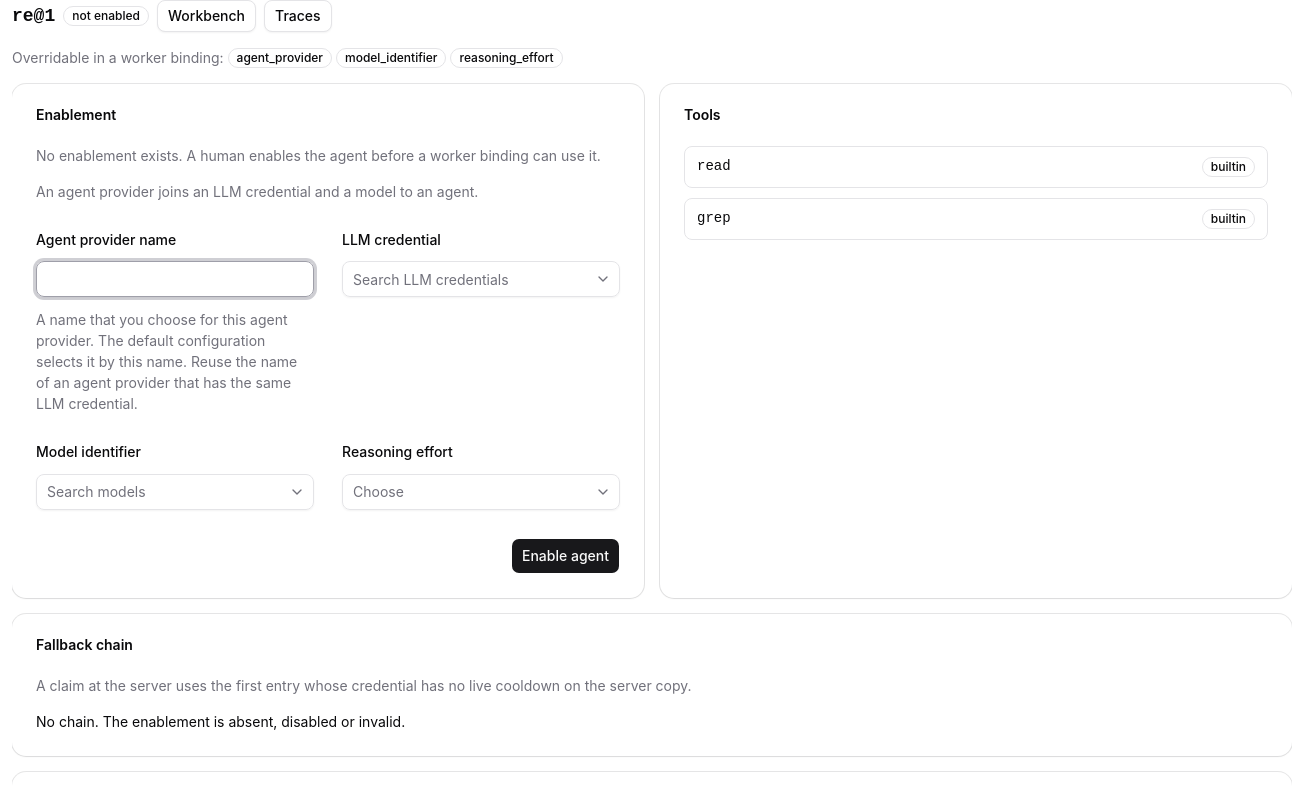
Scenario: AgentScreen › stays on the agent when the enablement create with a return path fails
The width and height of the screenshot is (1292, 794).
In the field labelled "Agent provider name": [175, 279] box [36,261,314,297], type "router"
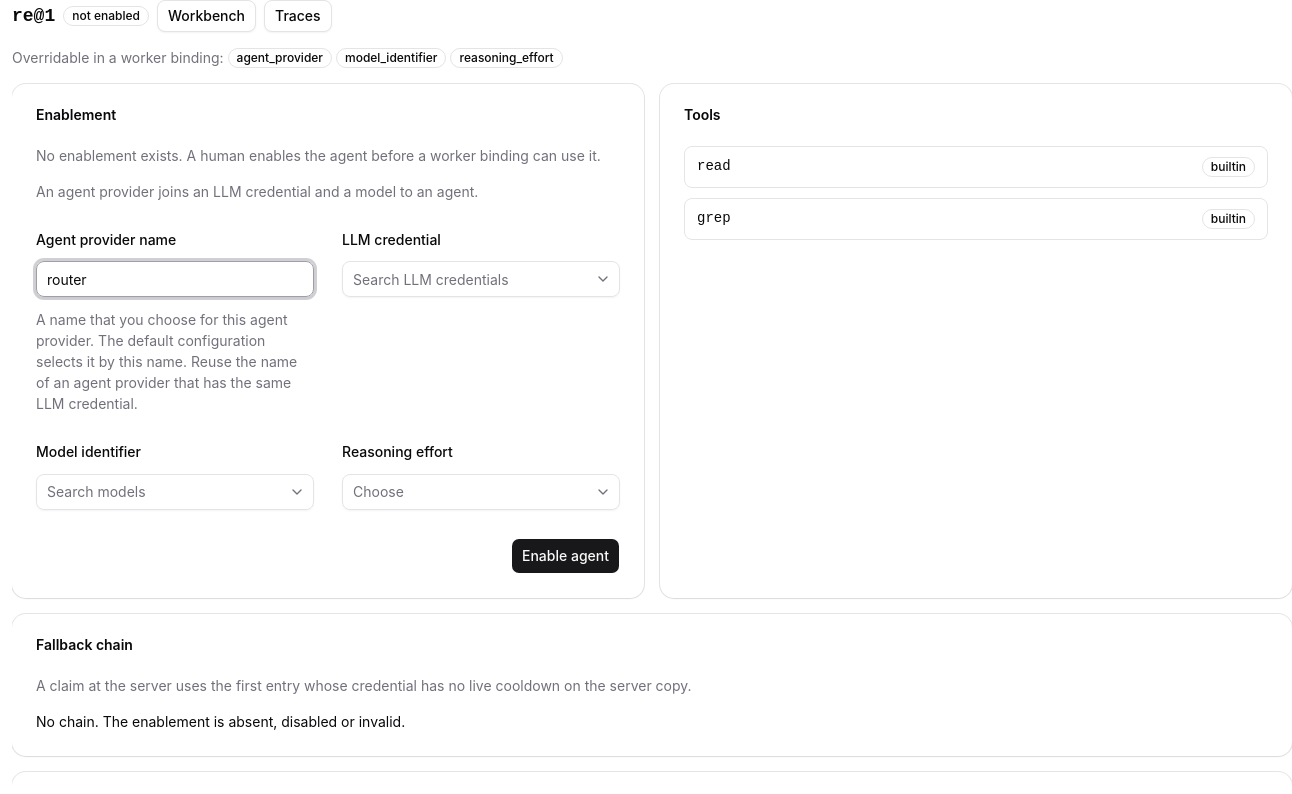
Click the dropdown labelled "LLM credential": [467, 279] box [343,261,591,297]
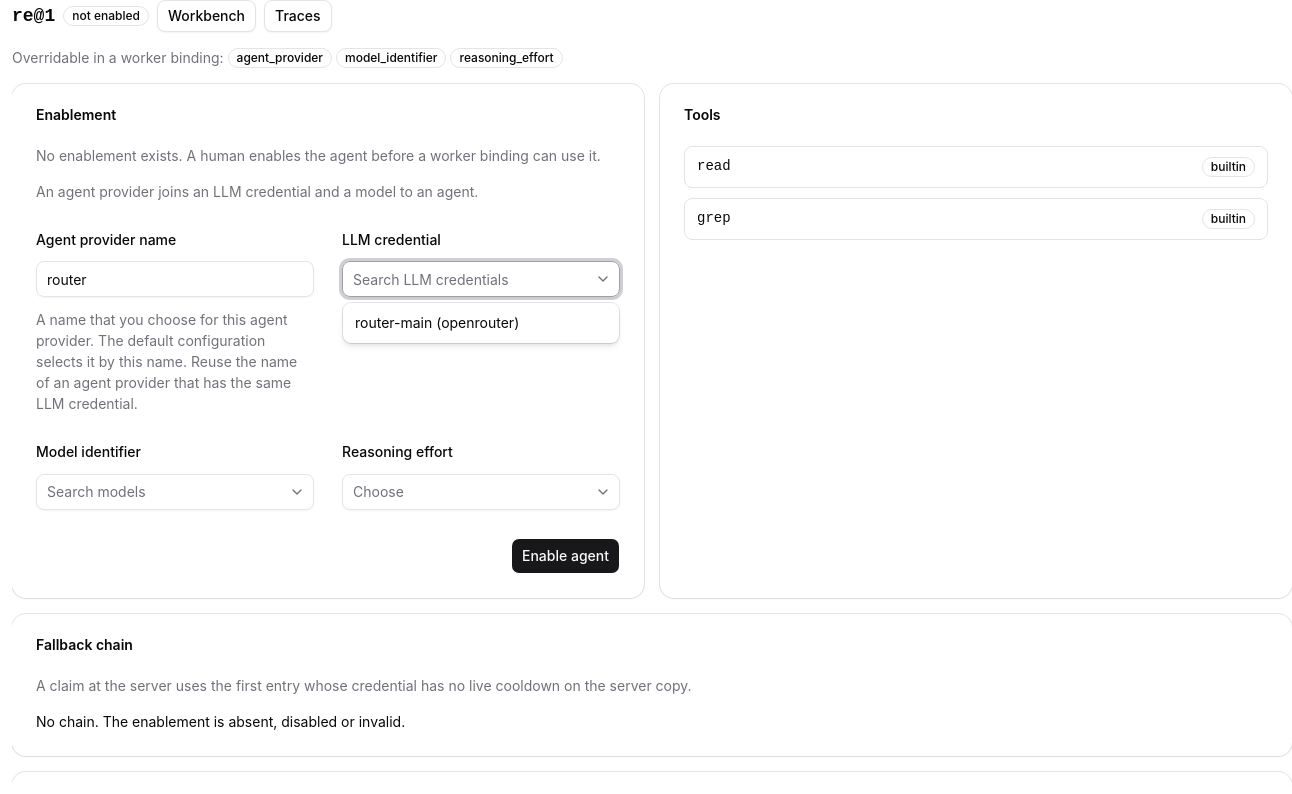
Click the option "router-main (openrouter)": [437, 322] box [355,314,519,331]
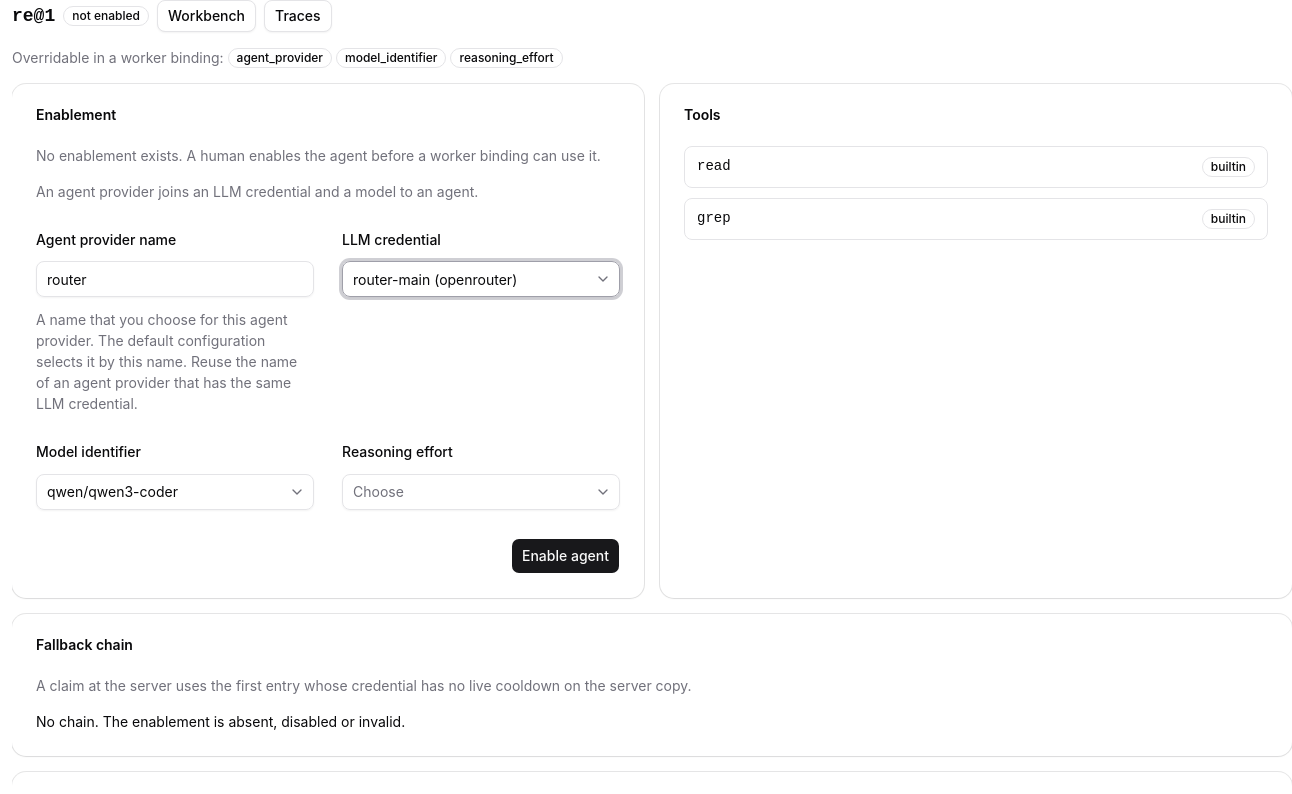
Expected: the dropdown labelled "Model identifier" holds "qwen/qwen3-coder", [37,474,285,510]
Click the dropdown named "Reasoning effort": [378, 491] box [342,474,620,510]
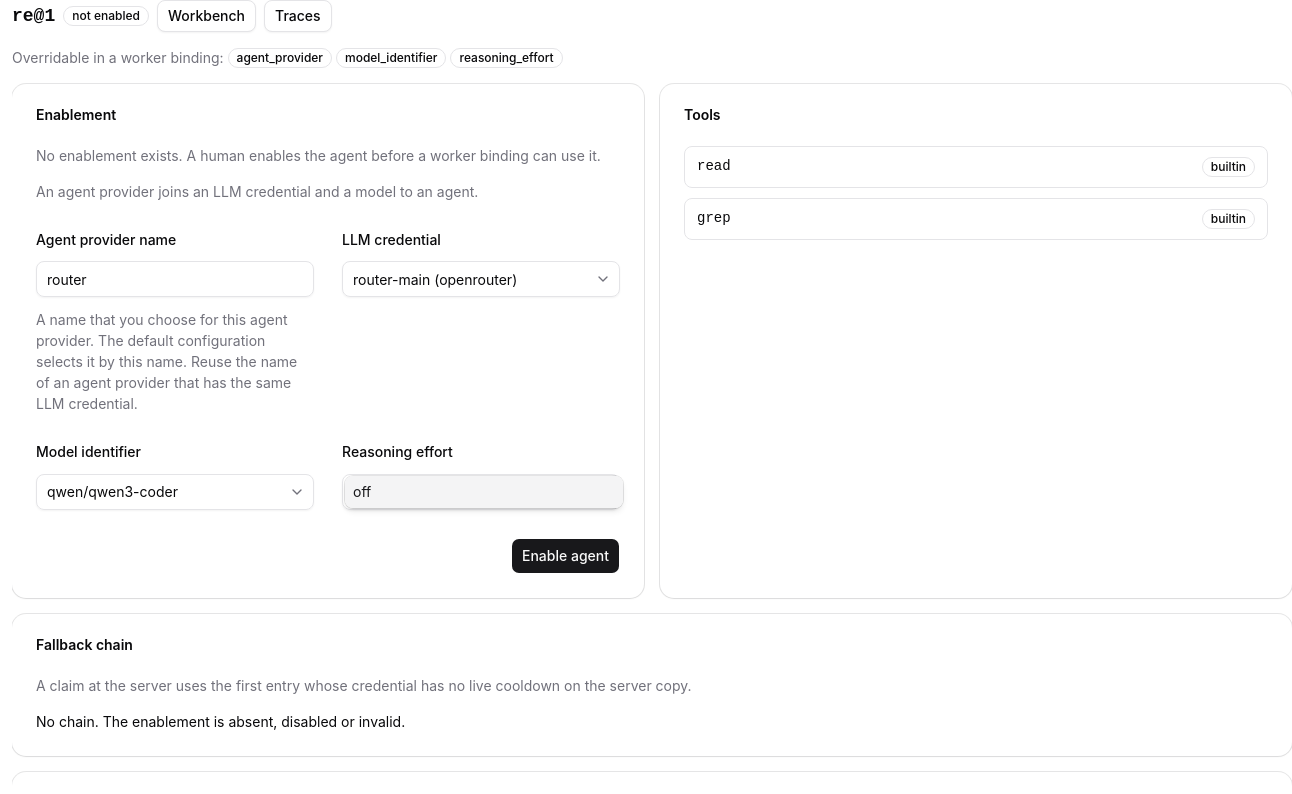
Click the option "off": [362, 491] box [345,476,623,508]
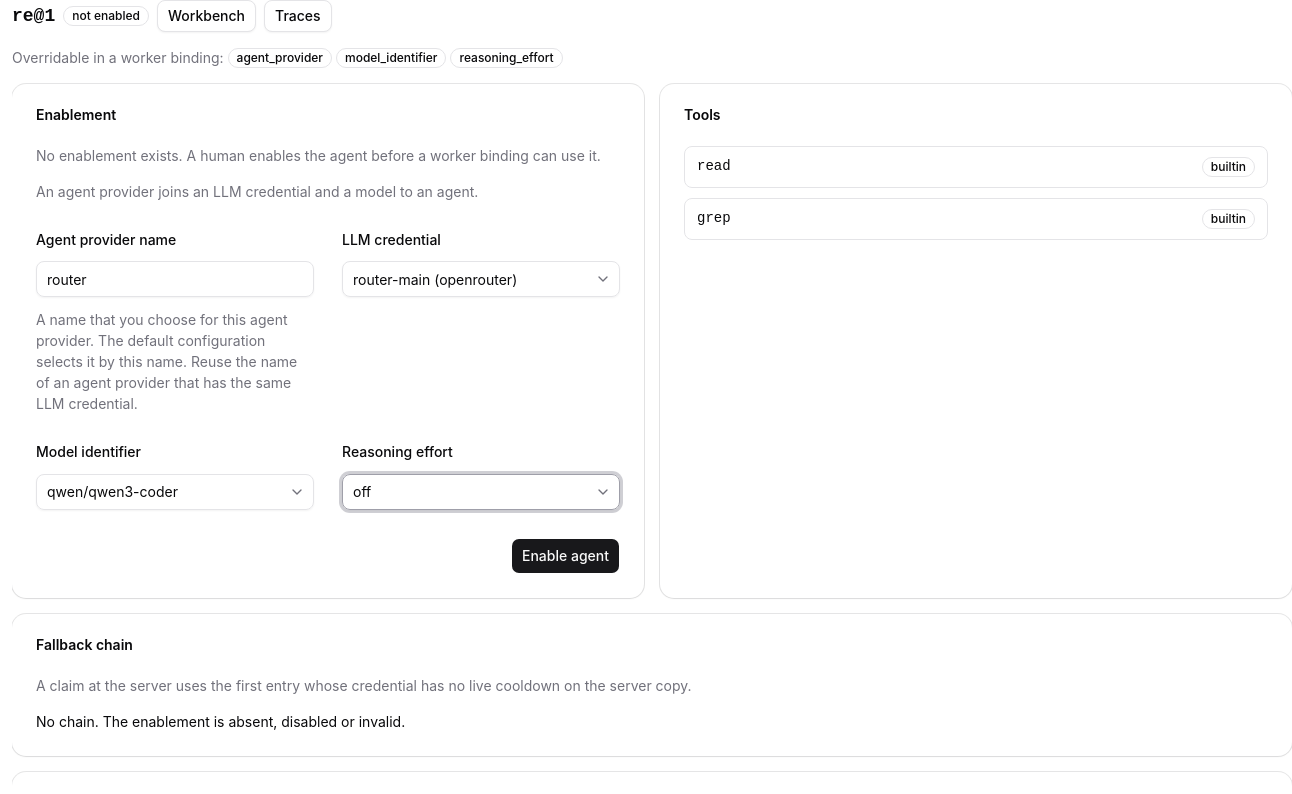
Click the button "Enable agent": [566, 556] box [511,538,620,574]
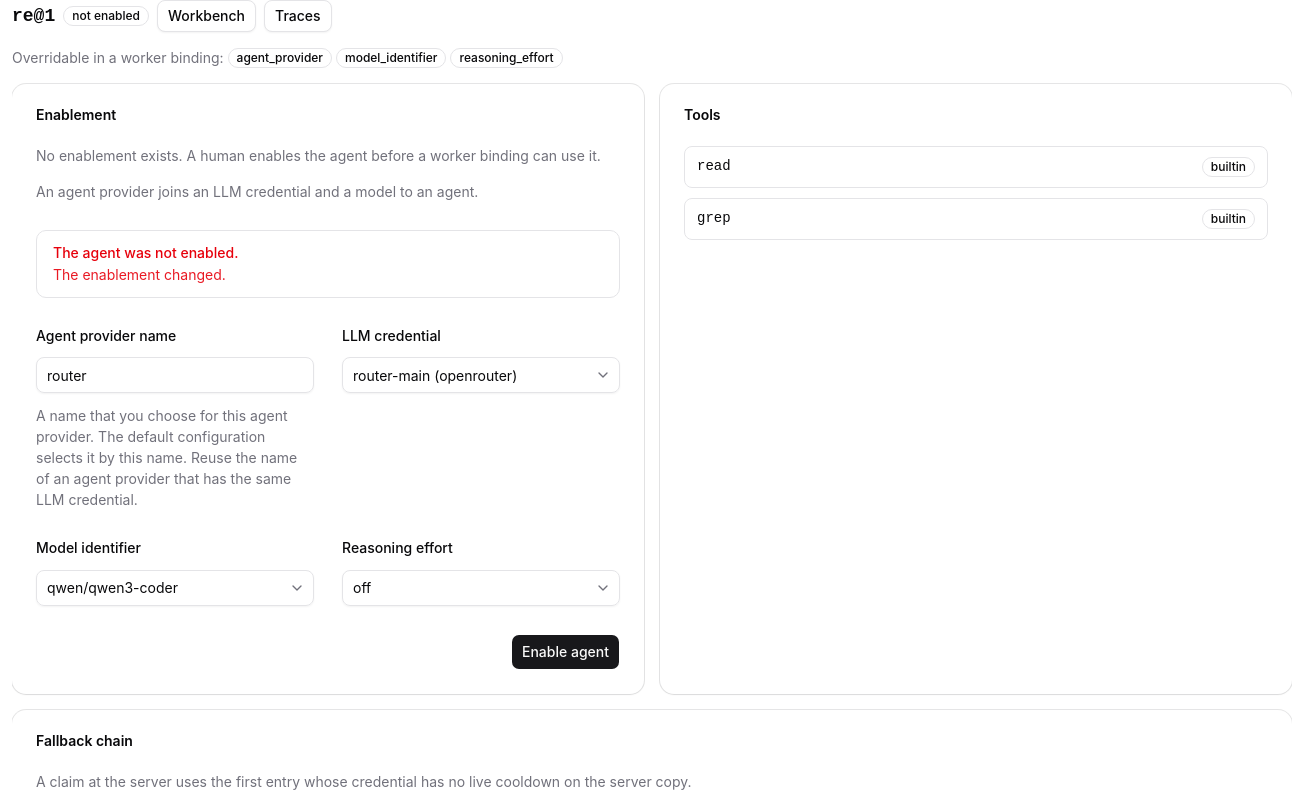
Expected: the text "The enablement changed." is shown, [53,266,226,283]
